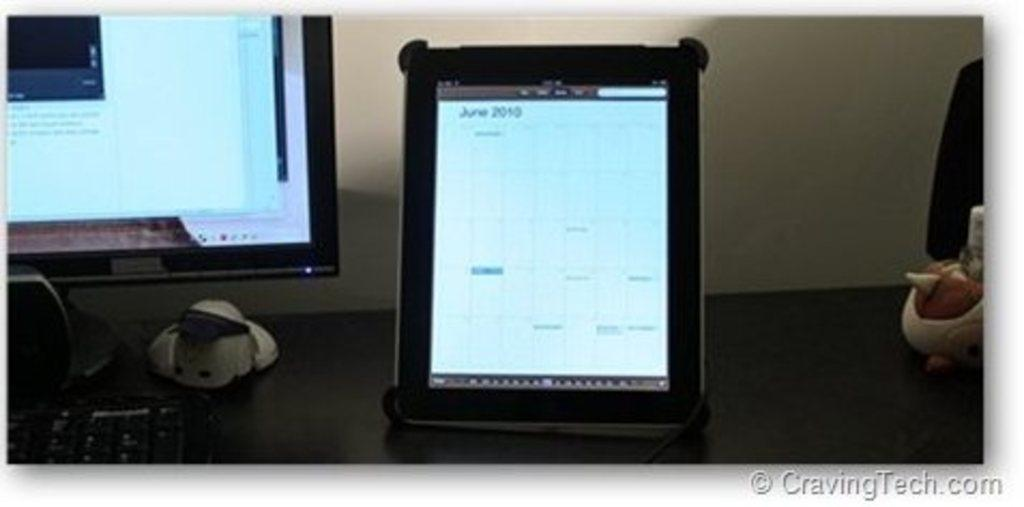Computer-monitor: (0, 19, 343, 307)
